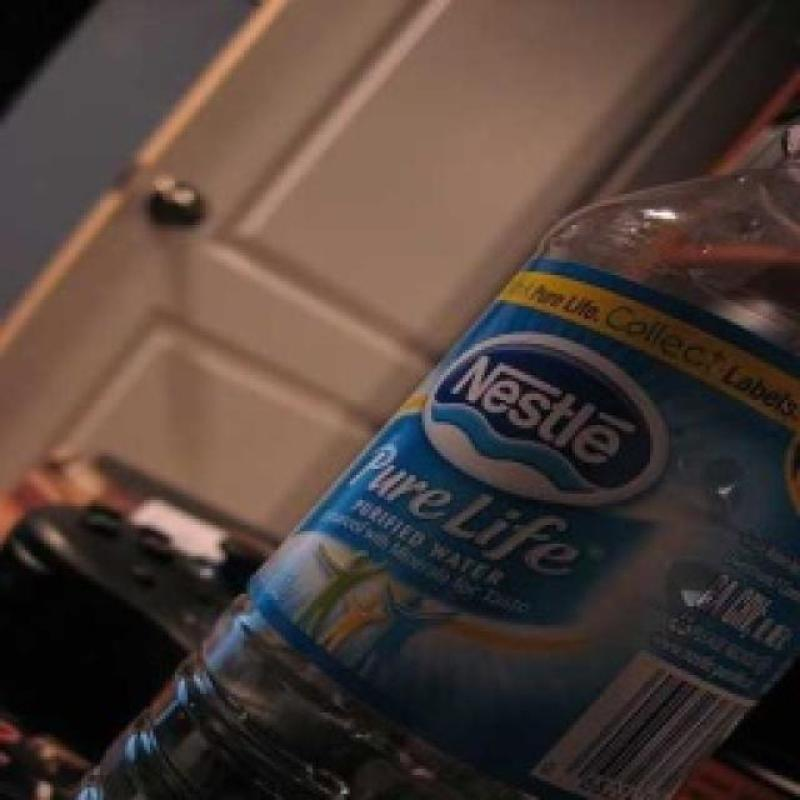botella: (71, 119, 800, 800)
